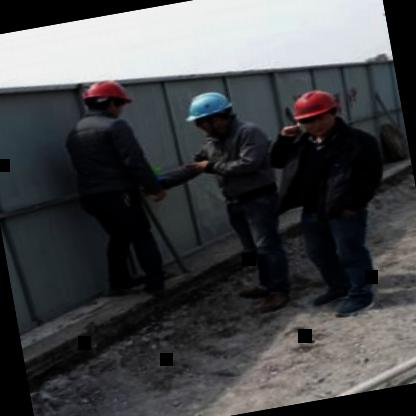helmet: (282, 82, 348, 139), (180, 83, 238, 142), (77, 74, 136, 126)
